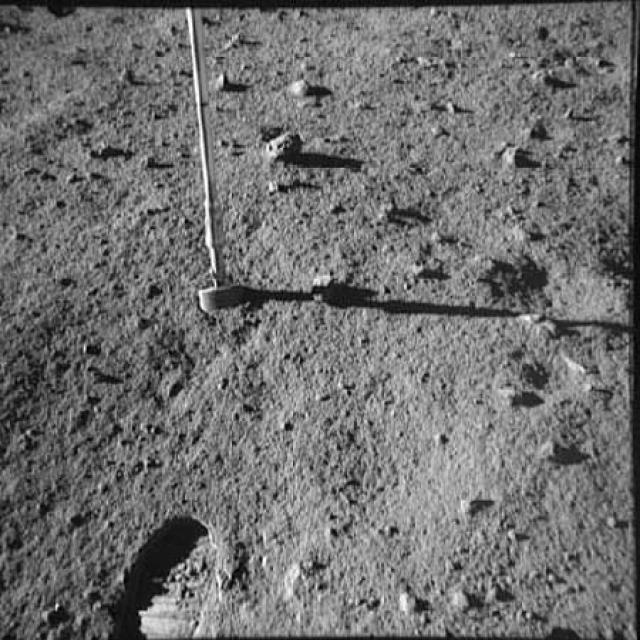rock: (263, 124, 300, 166), (518, 310, 564, 340), (492, 380, 530, 414), (73, 137, 126, 160), (373, 200, 411, 232), (396, 588, 434, 620), (449, 498, 489, 527), (443, 582, 472, 614), (558, 100, 602, 121), (484, 582, 516, 610), (501, 137, 527, 171), (536, 438, 571, 462), (509, 220, 540, 247), (201, 68, 232, 94), (516, 120, 550, 142), (282, 77, 314, 100), (556, 49, 588, 70), (218, 32, 248, 53), (257, 177, 286, 198), (409, 259, 436, 281), (132, 154, 158, 174), (114, 68, 140, 88), (603, 149, 630, 168), (445, 94, 463, 122), (603, 127, 630, 145), (430, 120, 454, 140), (529, 70, 558, 86)
